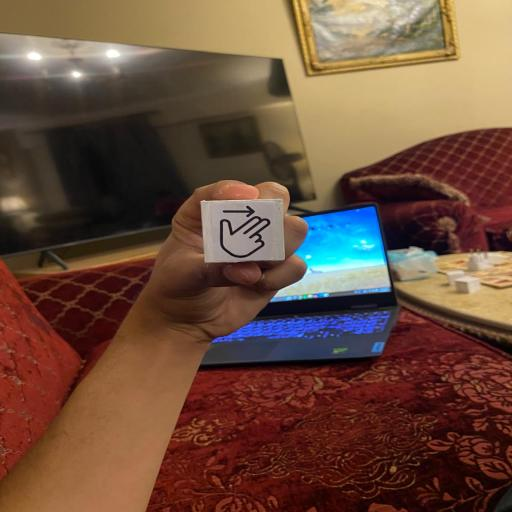RightSwipe: (198, 197, 286, 264)
